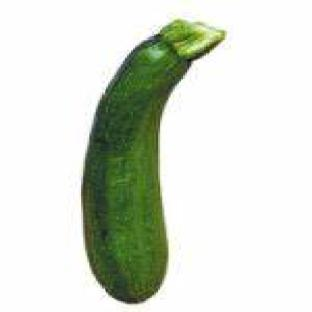Zucchini: (84, 21, 224, 302)
